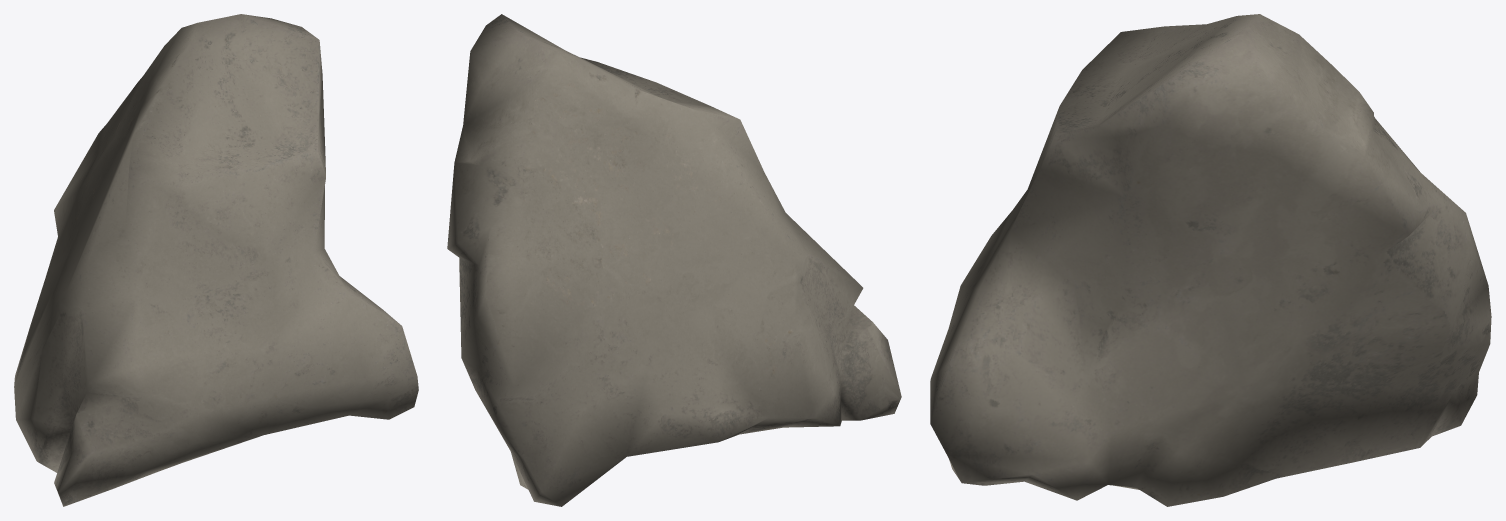
The model's file is 2. moon_rock.fbx.
The picture shows the model from 3 angles, left to right: view 1: azimuth 30°, elevation 25°; view 2: azimuth 150°, elevation 25°; view 3: azimuth 270°, elevation 25°; orthographic projection. The views are drawn at different scales.
Parts seen in each view (by area): view 1: 2. moon_rock; view 2: 2. moon_rock; view 3: 2. moon_rock.
Boxes of the visible parts, x1,y1,x2,y2 form: 2. moon_rock: (14, 14, 418, 506); 2. moon_rock: (447, 14, 901, 506); 2. moon_rock: (930, 14, 1491, 506).
Size of the model in its own units: 18.15 by 18.5 by 20.5.
1 material, 1 textured.
